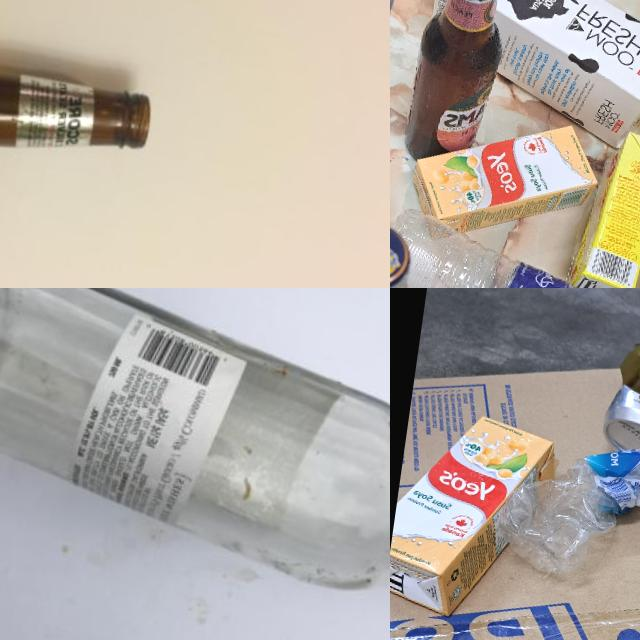caixinha: (390, 406, 558, 629), (418, 0, 640, 158), (404, 104, 606, 259), (564, 126, 640, 288)
garrafa de vidro: (0, 288, 390, 605), (0, 17, 163, 215), (402, 0, 516, 168)
garrafa plástica: (500, 426, 640, 599), (390, 207, 640, 288)
lata: (601, 336, 640, 461)
papelão: (390, 288, 640, 640)
